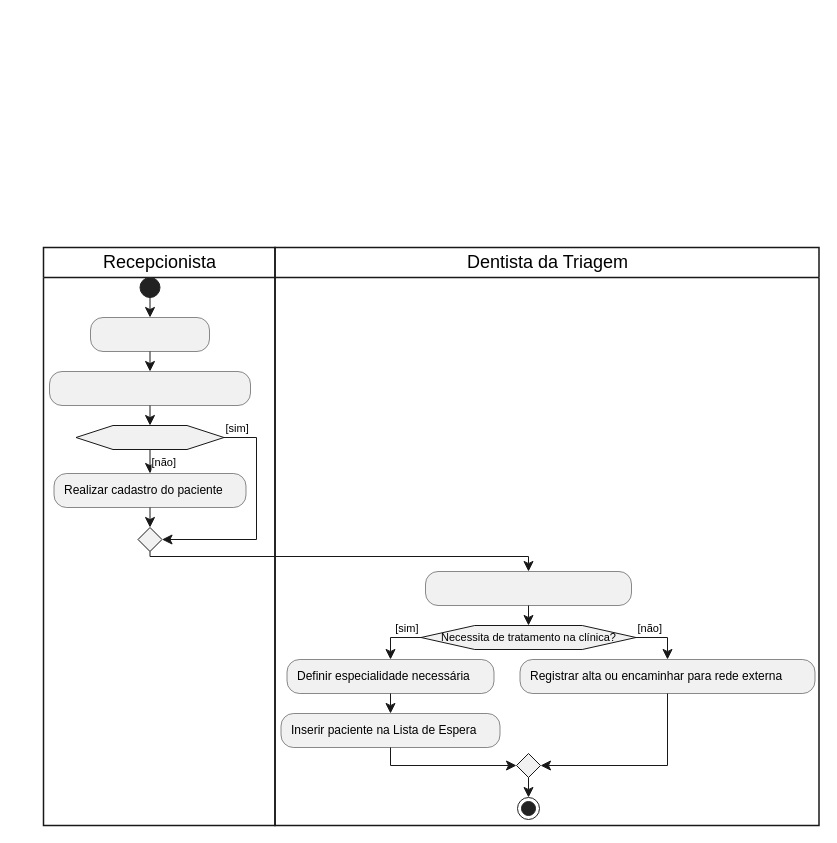
Image size: 837x843. Some labels were removed from this diagram. Here are the shapes that lost their labels. From the top down, the centre of each, then its label:
At pixel 149 334: "Receber paciente".
At pixel 149 388: "Pesquisar cadastro do paciente".
At pixel 149 437: "Paciente já cadastrado?".
At pixel 528 588: "Realizar avaliação clínica inicial".
